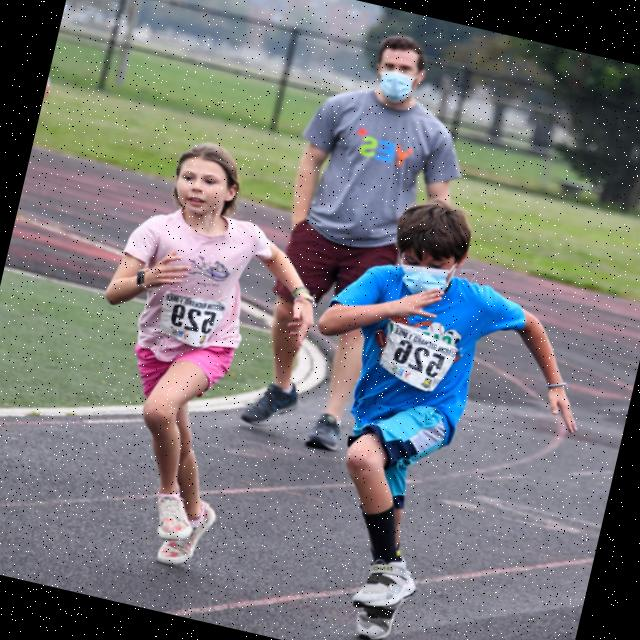Person: (251, 183, 616, 640), (48, 127, 348, 584), (234, 18, 486, 466)
